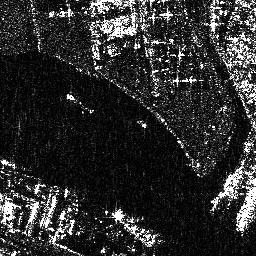ship: (111, 209, 157, 248), (236, 183, 256, 235), (67, 92, 94, 113)
